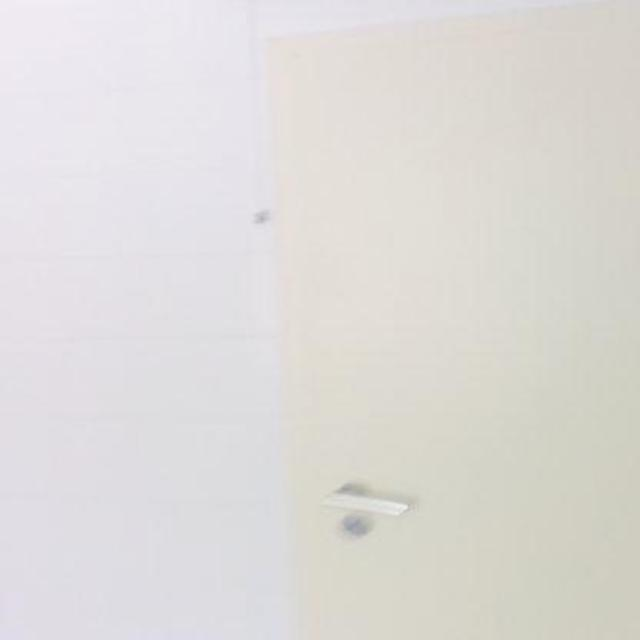door: (264, 0, 638, 638)
